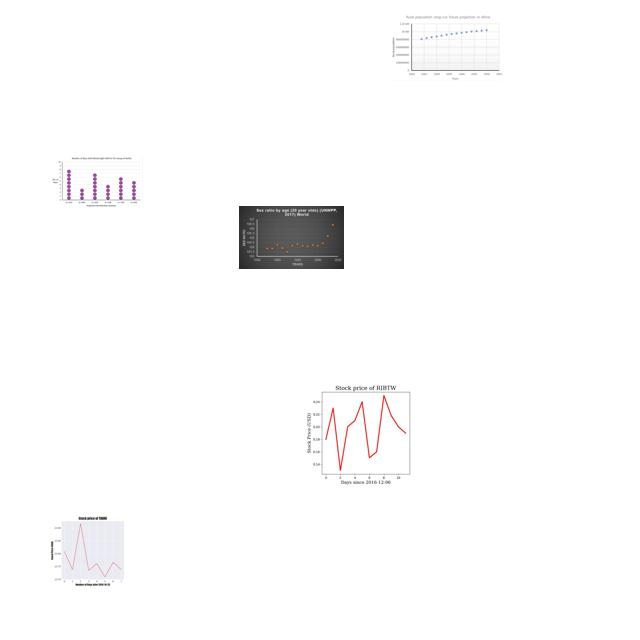Graph: (293, 379, 435, 486), (41, 512, 142, 588), (392, 14, 503, 81), (239, 206, 344, 269), (50, 156, 143, 208)
